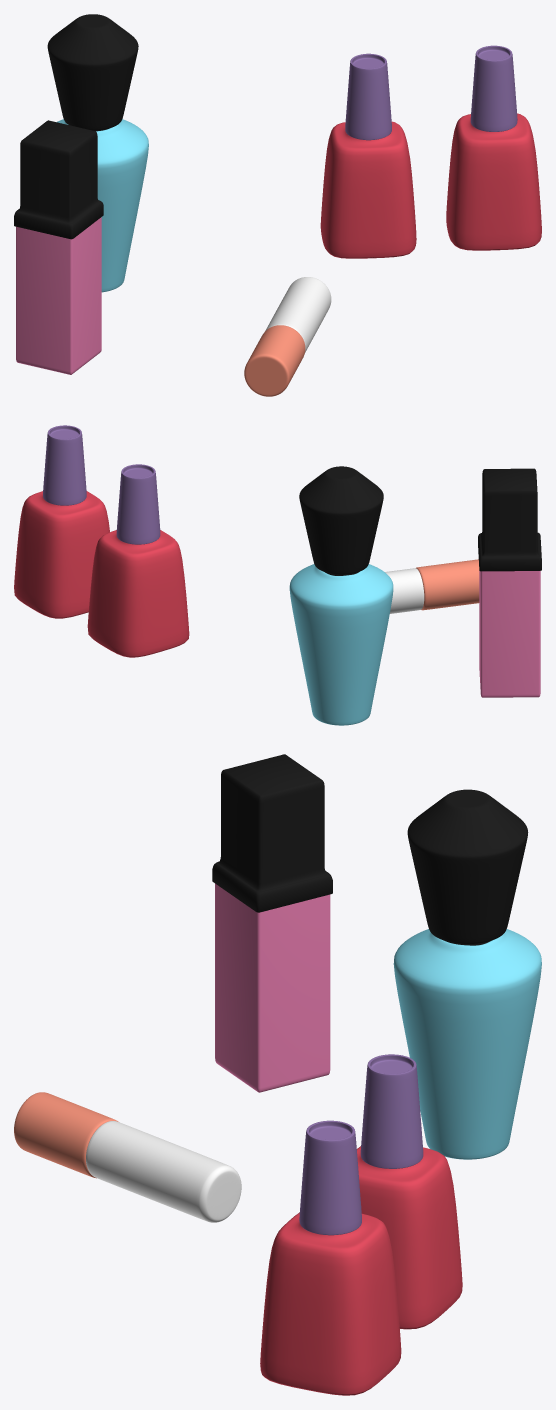
Rendered from Toy_Cosmetics_Bottle.fbx.
3 renders of one model, top to bottom at view 1: azimuth 30°, elevation 25°; view 2: azimuth 150°, elevation 25°; view 3: azimuth 270°, elevation 25°, orthographic. The views are drawn at different scales.
Visible parts, largest first — view 1: Bottle3, Bottle2, Bottle1, Bottle3_Cap, Bottle4_Cap.001, Bottle4, Bottle2_Cap, Bottle1_Cap, LipStick, LipStick_Cover; view 2: Bottle4, Bottle2, Bottle1, Bottle3, Bottle4_Cap.001, Bottle3_Cap, Bottle1_Cap, Bottle2_Cap, LipStick, LipStick_Cover; view 3: Bottle4, Bottle1, Bottle3, Bottle3_Cap, Bottle4_Cap.001, Bottle2, LipStick_Cover, Bottle2_Cap, Bottle1_Cap, LipStick.
Part boxes in pixels (x1,y1,x2,y2): Bottle3: (16,217,101,374); Bottle2: (320,121,416,258); Bottle1: (446,113,541,250); Bottle3_Cap: (14,120,103,239); Bottle4_Cap.001: (47,14,138,131); Bottle4: (56,119,148,292); Bottle2_Cap: (345,53,391,140); Bottle1_Cap: (470,45,517,131); LipStick: (244,325,305,396); LipStick_Cover: (265,277,331,352); Bottle4: (289,564,393,725); Bottle2: (87,530,189,657); Bottle1: (14,491,109,618); Bottle3: (479,571,540,697); Bottle4_Cap.001: (299,466,383,575); Bottle3_Cap: (478,468,541,571); Bottle1_Cap: (43,425,86,505); Bottle2_Cap: (116,464,160,544); LipStick: (416,559,479,610); LipStick_Cover: (385,568,424,613); Bottle4: (393,929,541,1159); Bottle1: (260,1212,401,1395); Bottle3: (215,883,330,1092); Bottle3_Cap: (212,754,332,912); Bottle4_Cap.001: (407,789,528,945); Bottle2: (357,1146,462,1329); LipStick_Cover: (86,1121,241,1222); Bottle2_Cap: (360,1054,423,1168); Bottle1_Cap: (299,1120,361,1235); LipStick: (14,1092,118,1178).
Size of the model in its own units: 20.67 by 9.44 by 13.13.
